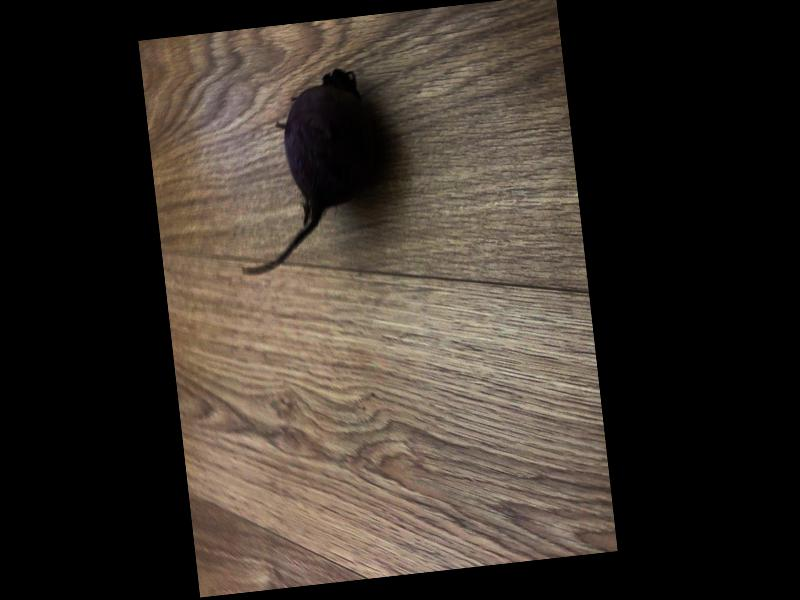Beet: (222, 69, 389, 279)
